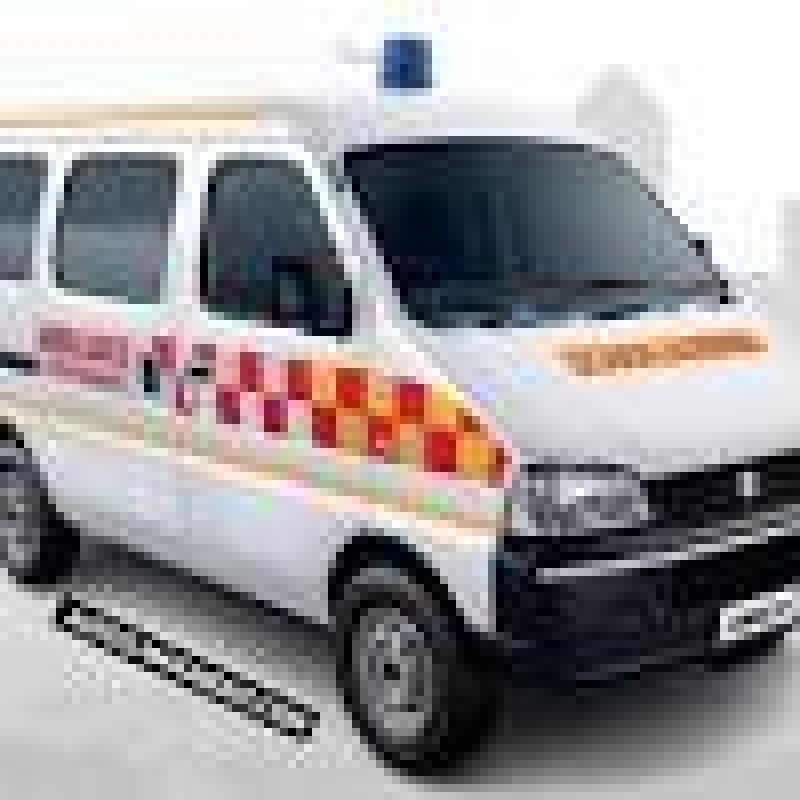ambulance: (11, 23, 800, 745)
